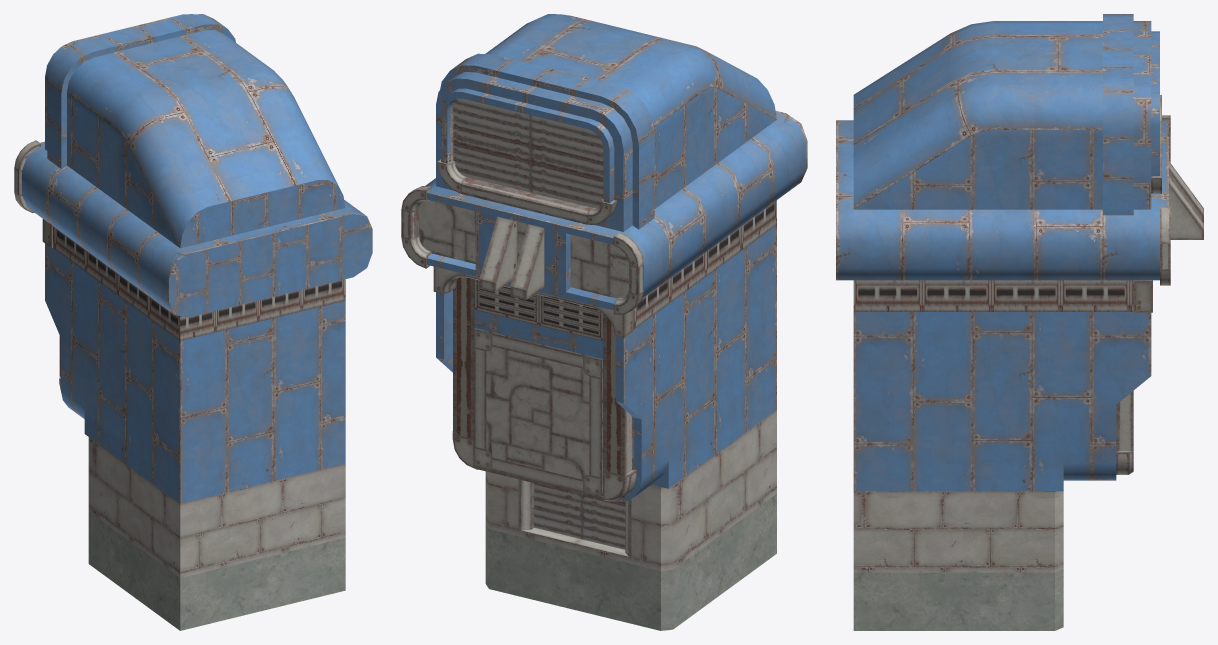
Rendered from Level_01_Backdrop_Building_A.fbx.
3 renders of one model, left to right at view 1: azimuth 30°, elevation 25°; view 2: azimuth 150°, elevation 25°; view 3: azimuth 270°, elevation 25°, orthographic. The views are drawn at different scales.
Visible parts, largest first — view 1: Geometry_Level_01_Backdrop_Building_A_Shell_Walls_B, Geometry_Level_01_Backdrop_Building_A_Shell_Walls_A, Geometry_Level_01_Backdrop_Building_A_Foundation_A, Geometry_Level_01_Backdrop_Building_A_Shell_Part_A, Geometry_Level_01_Backdrop_Building_A_Shell_Part_A_Elements; view 2: Geometry_Level_01_Backdrop_Building_A_Shell_Walls_B, Geometry_Level_01_Backdrop_Building_A_Shell_Part_A, Geometry_Level_01_Backdrop_Building_A_Shell_Part_A_Elements, Geometry_Level_01_Backdrop_Building_A_Foundation_A, Geometry_Level_01_Backdrop_Building_A_Shell_Walls_A; view 3: Geometry_Level_01_Backdrop_Building_A_Shell_Walls_B, Geometry_Level_01_Backdrop_Building_A_Shell_Walls_A, Geometry_Level_01_Backdrop_Building_A_Foundation_A, Geometry_Level_01_Backdrop_Building_A_Shell_Part_A, Geometry_Level_01_Backdrop_Building_A_Shell_Part_A_Elements.
Part boxes in pixels (x1,y1,x2,y2): Geometry_Level_01_Backdrop_Building_A_Shell_Walls_B: (21, 14, 372, 503); Geometry_Level_01_Backdrop_Building_A_Shell_Walls_A: (88, 437, 345, 577); Geometry_Level_01_Backdrop_Building_A_Foundation_A: (88, 511, 345, 630); Geometry_Level_01_Backdrop_Building_A_Shell_Part_A: (24, 156, 345, 340); Geometry_Level_01_Backdrop_Building_A_Shell_Part_A_Elements: (14, 140, 61, 392); Geometry_Level_01_Backdrop_Building_A_Shell_Walls_B: (413, 14, 807, 502); Geometry_Level_01_Backdrop_Building_A_Shell_Part_A: (419, 98, 776, 549); Geometry_Level_01_Backdrop_Building_A_Shell_Part_A_Elements: (401, 159, 643, 557); Geometry_Level_01_Backdrop_Building_A_Foundation_A: (485, 494, 776, 630); Geometry_Level_01_Backdrop_Building_A_Shell_Walls_A: (485, 410, 776, 570); Geometry_Level_01_Backdrop_Building_A_Shell_Walls_B: (836, 14, 1168, 491); Geometry_Level_01_Backdrop_Building_A_Shell_Walls_A: (853, 491, 1063, 572); Geometry_Level_01_Backdrop_Building_A_Foundation_A: (853, 569, 1063, 630); Geometry_Level_01_Backdrop_Building_A_Shell_Part_A: (853, 280, 1146, 311); Geometry_Level_01_Backdrop_Building_A_Shell_Part_A_Elements: (1116, 95, 1203, 474).
Bounding box in the file's own units: 1520 × 3397 × 2100.
